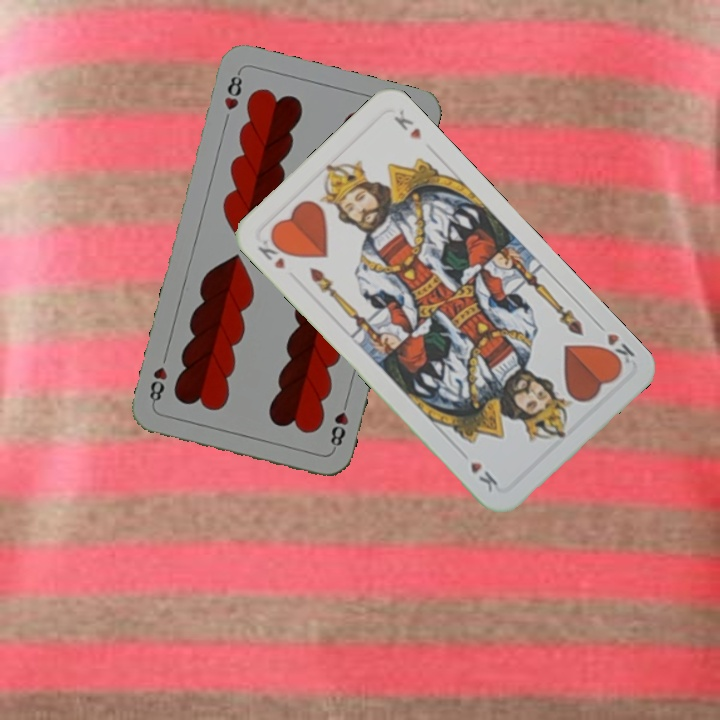H8: (326, 395, 351, 453), (220, 67, 245, 113)
HK: (591, 317, 637, 371), (253, 232, 292, 272)
